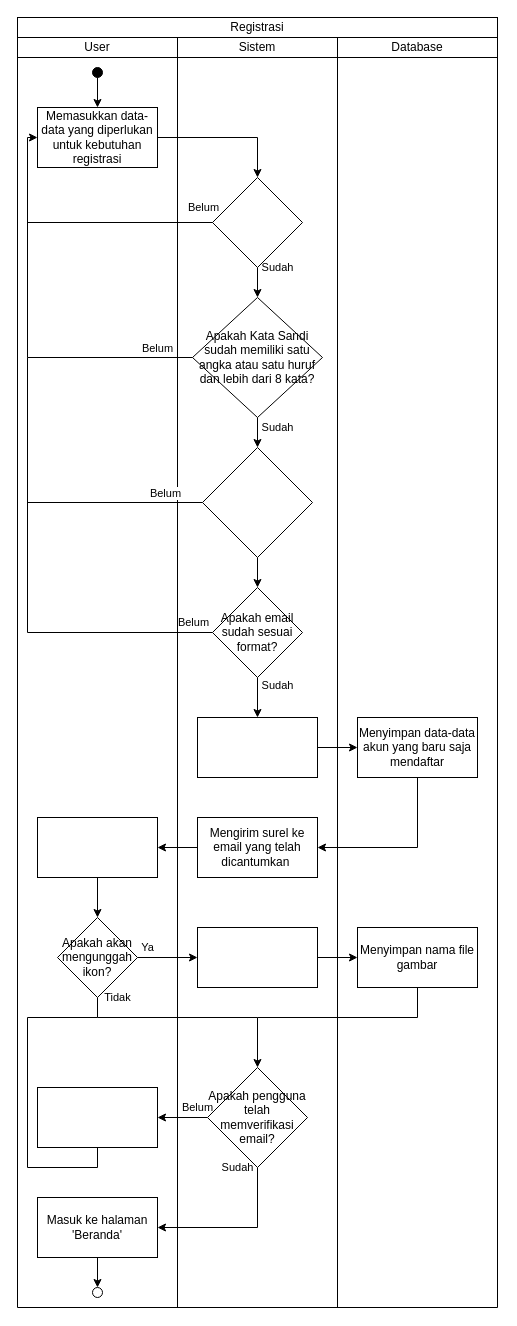
Some shapes in this 517 by 1326 pixel diagram are drawn without their labels. Here are the shapes that lost their labels. From the top down, the centre of each, then its label:
point (257, 222): Apakah Captcha sudah sesuai?
point (257, 502): Apakah Kata Sandi sama dengan Konfirmasi Kata Sandi?
point (257, 747): Menyimpan data-data ke database
point (97, 847): Masuk ke Halaman 'Profile'
point (257, 957): Menyimpan gambar di dalam folder dan menyimpan nama gambar di database
point (97, 1117): Masuk ke halaman 'Verifikasi'
